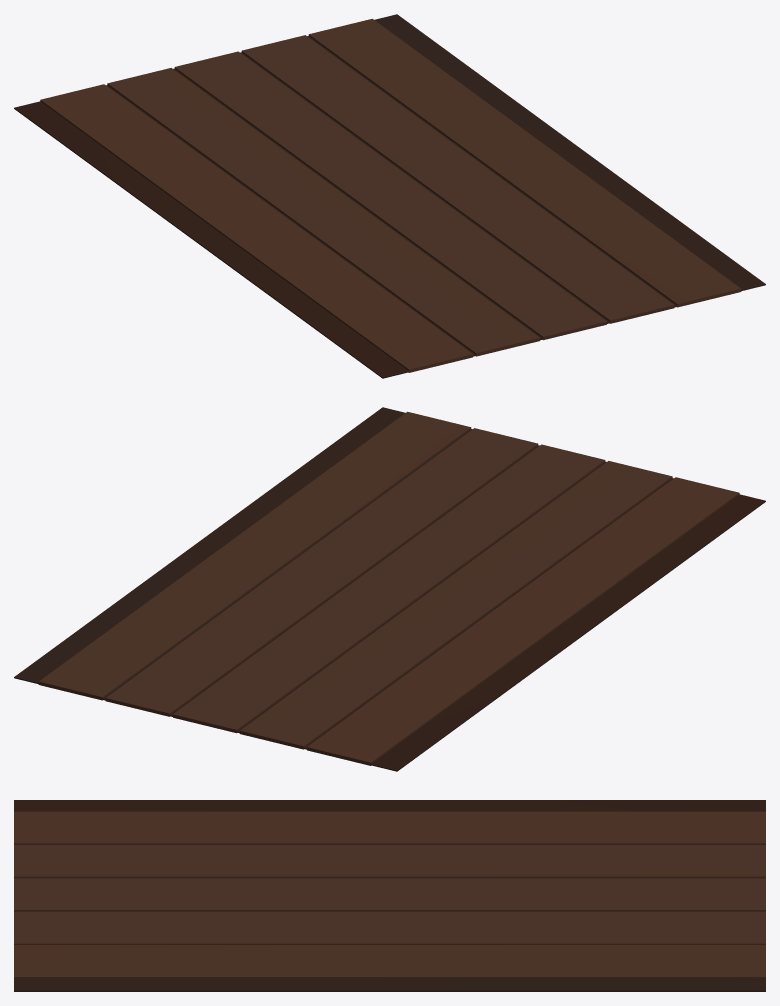
The model's file is T2TableFloor.fbx.
The picture shows the model from 3 angles, top to bottom: view 1: azimuth 30°, elevation 25°; view 2: azimuth 150°, elevation 25°; view 3: azimuth 270°, elevation 25°; orthographic projection.
Parts seen in each view (by area): view 1: level floor.001; view 2: level floor.001; view 3: level floor.001.
Part boxes in pixels (x1,y1,x2,y2): level floor.001: [14, 14, 765, 378]; level floor.001: [14, 407, 765, 771]; level floor.001: [14, 800, 765, 991].
Size of the model in its own units: 7200 by 60 by 12000.
